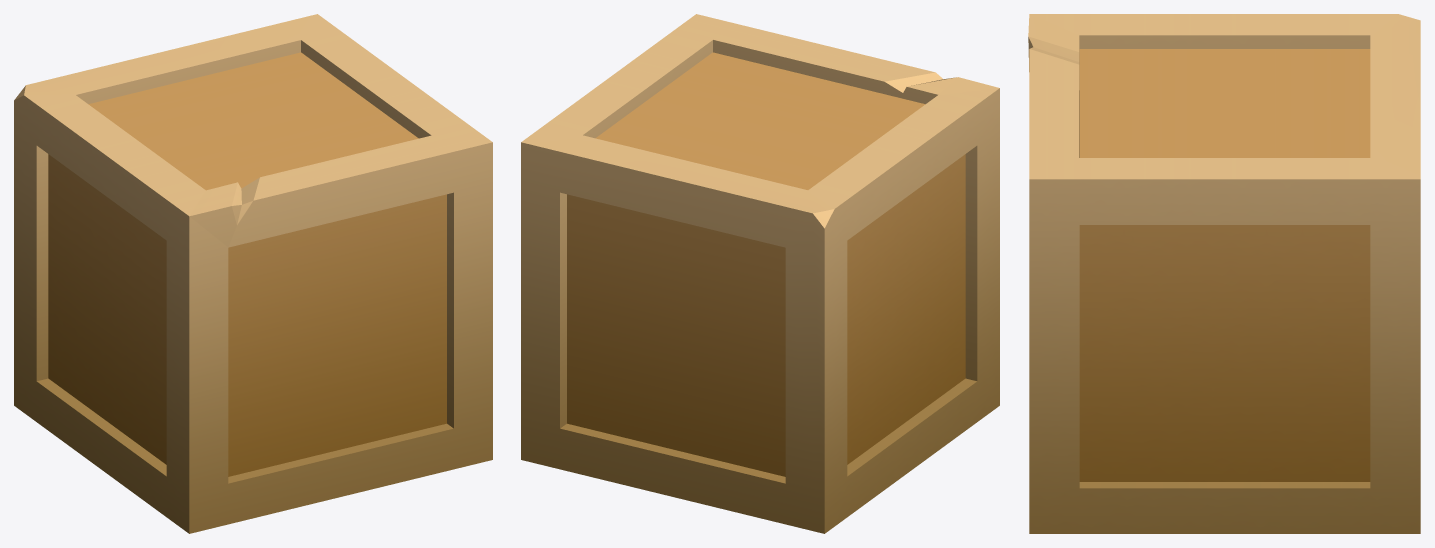
The model's file is Crate_Small_A.fbx.
3 renders of one model, left to right at view 1: azimuth 30°, elevation 25°; view 2: azimuth 150°, elevation 25°; view 3: azimuth 270°, elevation 25°, orthographic. The views are drawn at different scales.
Parts seen in each view (by area): view 1: Crate_Small_A; view 2: Crate_Small_A; view 3: Crate_Small_A.
Boxes of the visible parts, <box> form: Crate_Small_A: <box>14,14,492,533</box>; Crate_Small_A: <box>521,14,999,533</box>; Crate_Small_A: <box>1028,14,1420,533</box>.
Size of the model in its own units: 50.09 by 50.15 by 50.22.
